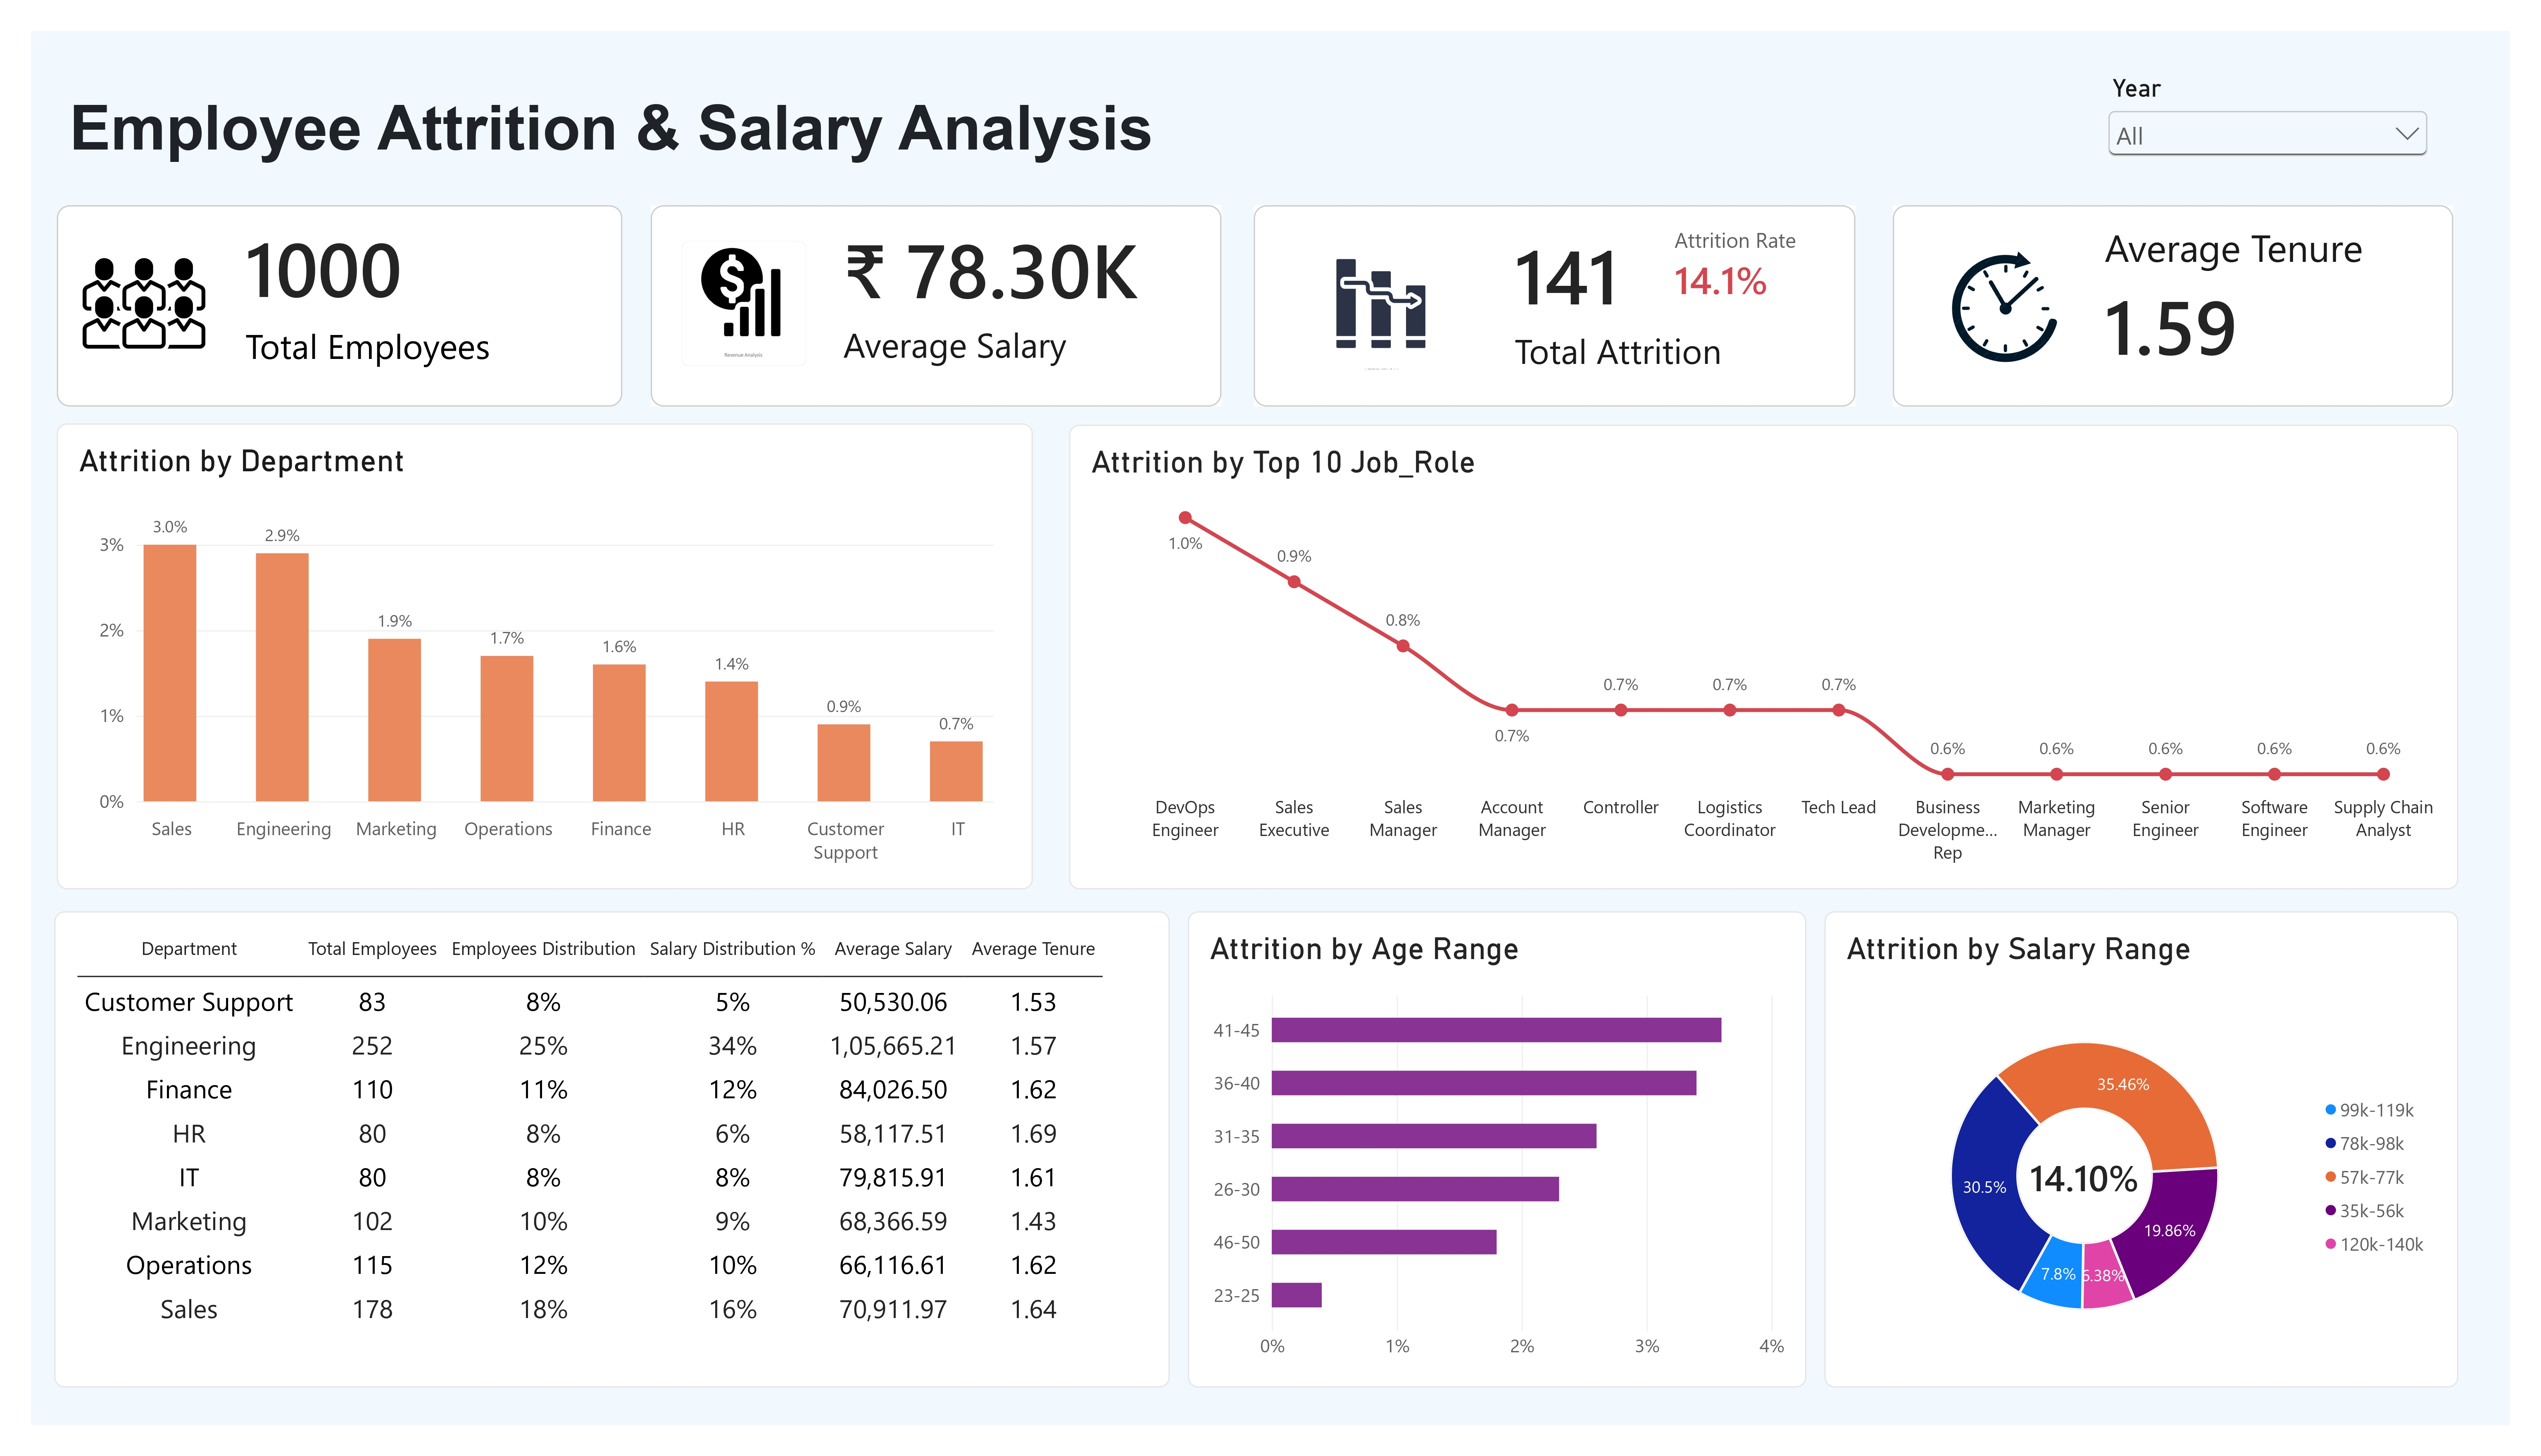

Layout of this report page (visuals, bound fields, positions):
{"tool":"powerbi","page":{"name":"Page 1","canvas":[1920,1080],"ordinal":0},"visuals":[{"type":"shape","box":[1441.8,134.5,434.5,156.4],"z":0},{"type":"shape","box":[947.3,134.5,465.5,156.4],"z":1000},{"type":"shape","box":[480,134.5,441.8,156.4],"z":2000},{"type":"cardVisual","fields":{"Data":["Employee Data.KPI Attrition"]},"box":[1249.1,145.5,141.8,80],"z":3000},{"type":"cardVisual","fields":{"Data":["Employee Data.Total Attrition"]},"box":[1125.5,145.5,216.4,132.7],"z":4000},{"type":"tableEx","fields":{"Values":["Data.Department","Data.Total Employees","Employee Data.Employees Distribution","Employee Data.Salary Distribution %","Employee Data.Average Salary","Employee Data.Average Tenure"]},"box":[18.2,681.8,863.6,369.1],"z":5000},{"type":"cardVisual","fields":{"Data":["Employee Data.Average Salary"]},"box":[605.5,150.9,278.2,110.9],"z":6000},{"type":"cardVisual","fields":{"Data":["Employee Data.Average Tenure"]},"box":[1581.8,145.5,283.6,130.9],"z":7000},{"type":"columnChart","title":"Attrition by Department","fields":{"Category":["Employee Data.Department"],"Y":["Employee Data.Attrition%"]},"box":[20,303.6,756.4,361.8],"z":8000},{"type":"lineChart","title":"Attrition by Top 10 Job_Role","fields":{"Category":["Employee Data.Job_Role"],"Y":["Employee Data.Attrition%"]},"box":[803.6,305.5,1076.4,360],"z":9000},{"type":"clusteredBarChart","title":"Attrition by Age Range","fields":{"Category":["Employee Data.Age Range"],"Y":["Employee Data.Attrition%"]},"box":[896.4,681.8,478.2,369.1],"z":10000},{"type":"donutChart","title":"Attrition by Salary Range","fields":{"Category":["Employee Data.Salary Range"],"Y":["Employee Data.Attrition%"]},"box":[1389.1,681.8,490.9,369.1],"z":11000},{"type":"textbox","box":[18.1,29,863.2,81.4],"z":12000},{"type":"slicer","fields":{"Values":["Employee Data.Year"]},"box":[1600,29.1,265.5,81.8],"z":13000},{"type":"shape","box":[20,134.5,438.2,156.4],"z":14000},{"type":"cardVisual","fields":{"Data":["Employee Data.Total Employees"]},"box":[141.8,136.4,316.4,141.8],"z":15000},{"type":"image","box":[498.2,160,107.3,101.8],"z":16000},{"type":"image","box":[40,160,94.5,101.8],"z":17000},{"type":"image","box":[980,150.9,130.9,110.9],"z":18000},{"type":"image","box":[1460,150.9,136.4,125.5],"z":19000}]}

Visuals, with their boxes on the page's 1920x1080 design canvas (x1, y1, x2, y2). These are canvas units, not pixel positions in the 2541x1456 screenshot, which may show the page scaled, cropped or inside an application window:
shape: 1442 134 1876 291
shape: 947 134 1413 291
shape: 480 134 922 291
cardVisual - Employee Data.KPI Attrition: 1249 146 1391 226
cardVisual - Employee Data.Total Attrition: 1126 146 1342 278
tableEx - Data.Department x Data.Total Employees: 18 682 882 1051
cardVisual - Employee Data.Average Salary: 606 151 884 262
cardVisual - Employee Data.Average Tenure: 1582 146 1865 276
"Attrition by Department" columnChart: 20 304 776 665
"Attrition by Top 10 Job_Role" lineChart: 804 306 1880 666
"Attrition by Age Range" clusteredBarChart: 896 682 1375 1051
"Attrition by Salary Range" donutChart: 1389 682 1880 1051
textbox: 18 29 881 110
slicer - Employee Data.Year: 1600 29 1866 111
shape: 20 134 458 291
cardVisual - Employee Data.Total Employees: 142 136 458 278
image: 498 160 606 262
image: 40 160 134 262
image: 980 151 1111 262
image: 1460 151 1596 276
